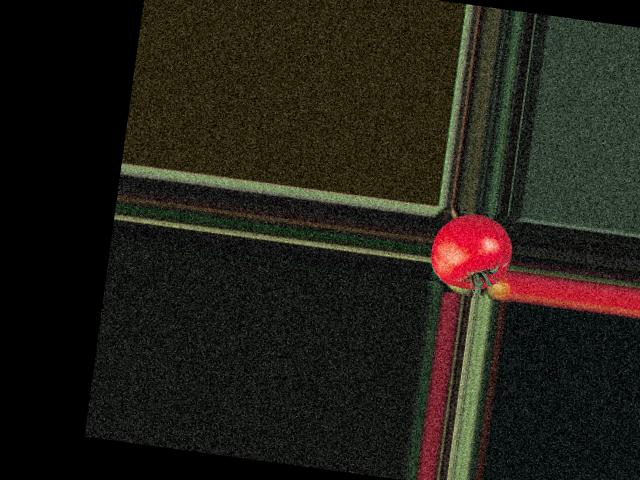tomato: (427, 208, 515, 293)
